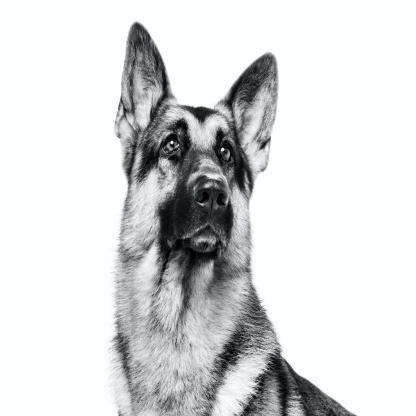dog: (110, 14, 374, 416)
